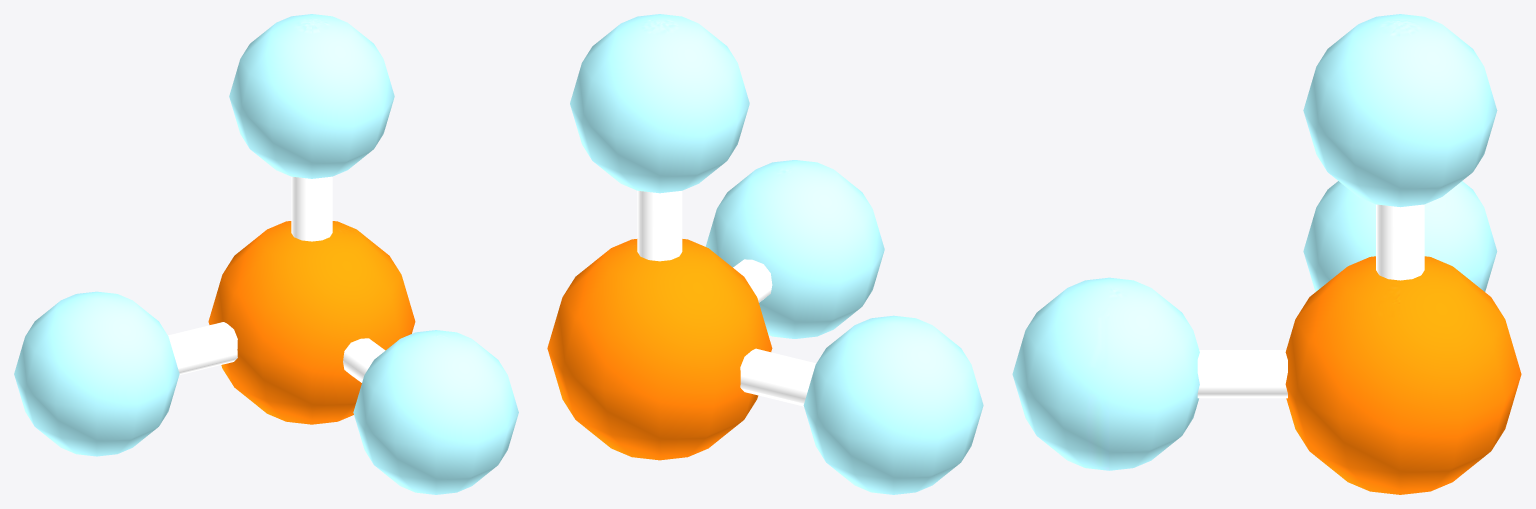
Rendered from Chemical-1.glb.
3 renders of one model, left to right at view 1: azimuth 30°, elevation 25°; view 2: azimuth 150°, elevation 25°; view 3: azimuth 270°, elevation 25°, orthographic. The views are drawn at different scales.
Visible parts, largest first — view 1: Chemical_1; view 2: Chemical_1; view 3: Chemical_1.
Boxes of the visible parts, bbox=[...] form: Chemical_1: bbox=[14, 14, 518, 494]; Chemical_1: bbox=[547, 14, 983, 494]; Chemical_1: bbox=[1012, 14, 1521, 494].
Bounding box in the file's own units: 0.0525 × 0.0525 × 0.0525.
1 material, 1 textured.
